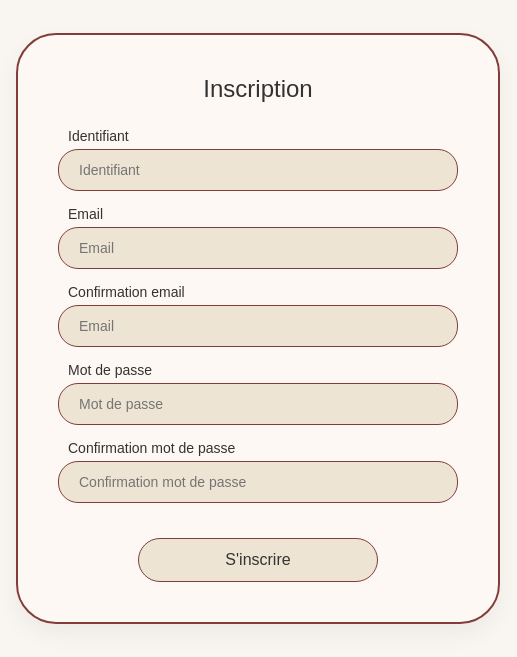
Test: Register › form with differents email
Type "test@gmail.com" into the field with id "email". click: (258, 248)
box: [58, 226, 458, 268]
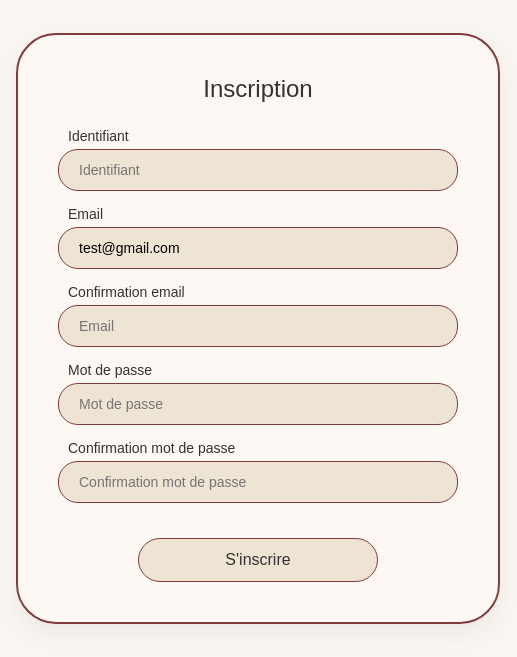
Type "test1@gmail.com" into the field with id "confirmEmail". click: (258, 326)
box: [58, 304, 458, 346]
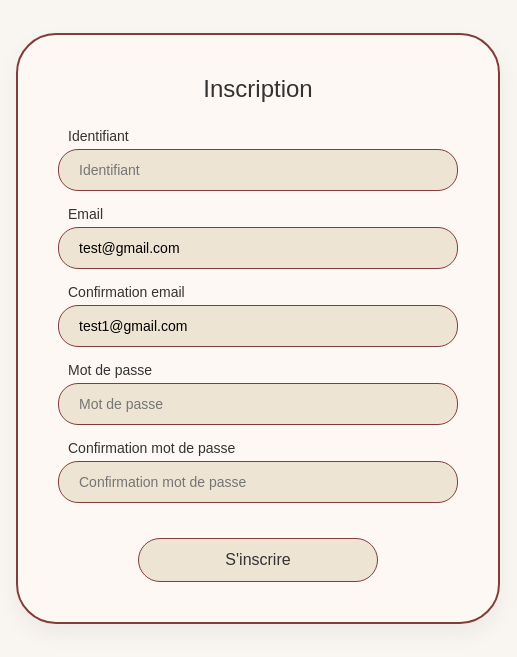
Submit the form
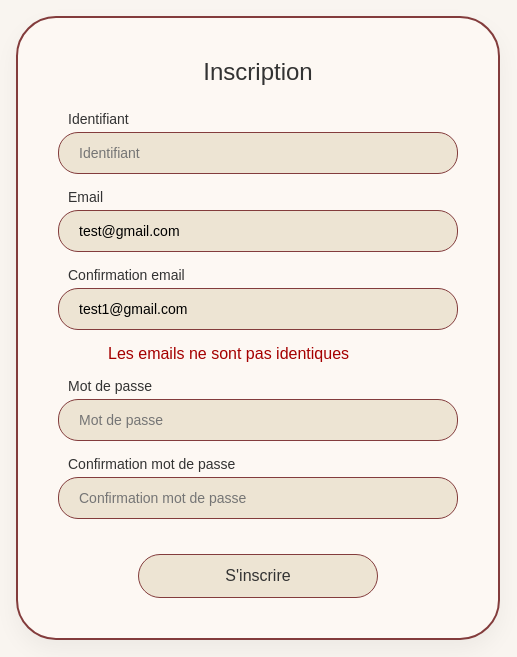
Check: the text "Les emails ne sont pas identiques" is shown, box [108, 345, 349, 362]
